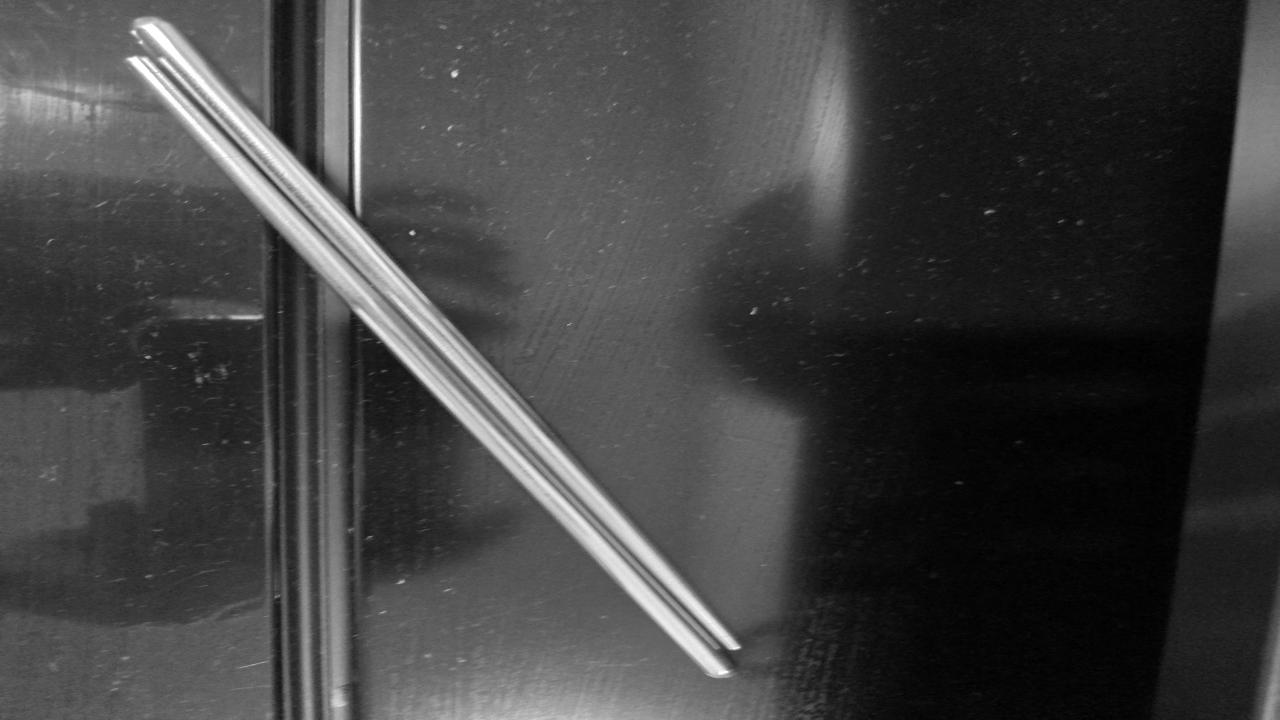chopstick: (124, 18, 751, 678)
